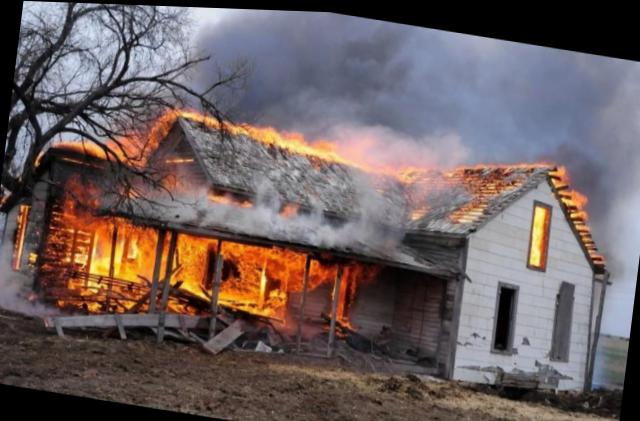fire: (10, 68, 609, 394)
